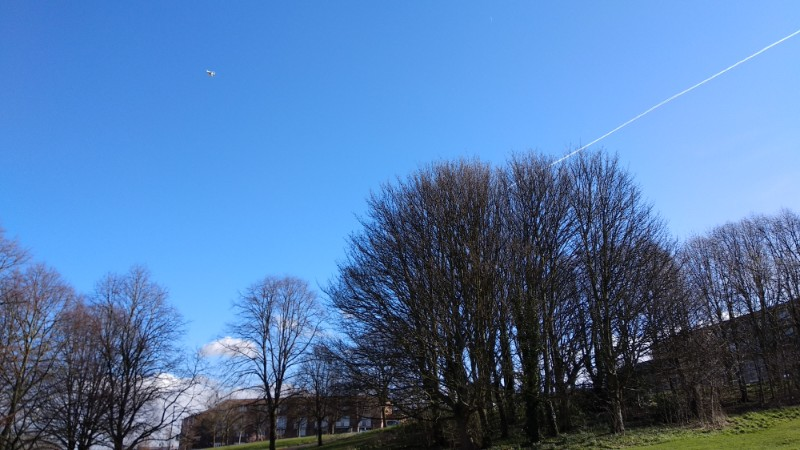drone: (205, 67, 217, 78)
